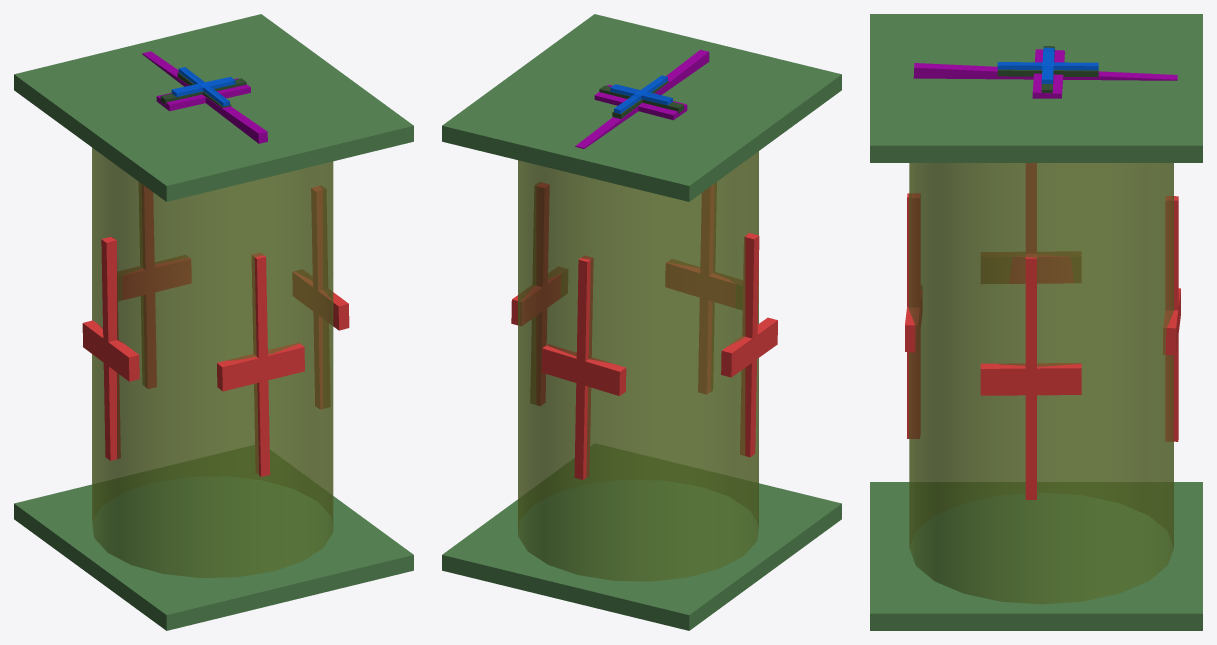
File: health pack.fbx
3 renders of one model, left to right at view 1: azimuth 30°, elevation 25°; view 2: azimuth 150°, elevation 25°; view 3: azimuth 270°, elevation 25°, orthographic. The views are drawn at different scales.
Visible parts, largest first — view 1: pCube185; view 2: pCube185; view 3: pCube185.
Part boxes in pixels (bbox=[...]): pCube185: bbox=[14, 14, 413, 630]; pCube185: bbox=[442, 14, 841, 630]; pCube185: bbox=[870, 14, 1202, 630].
Size of the model in its own units: 2.35 by 4.3 by 2.52.
